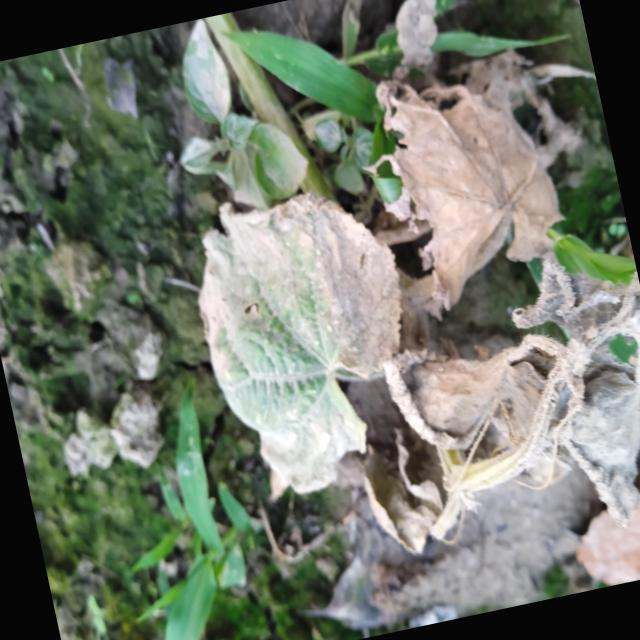cucumber_bacterial: (343, 13, 610, 330), (372, 248, 640, 557), (182, 188, 426, 506)
